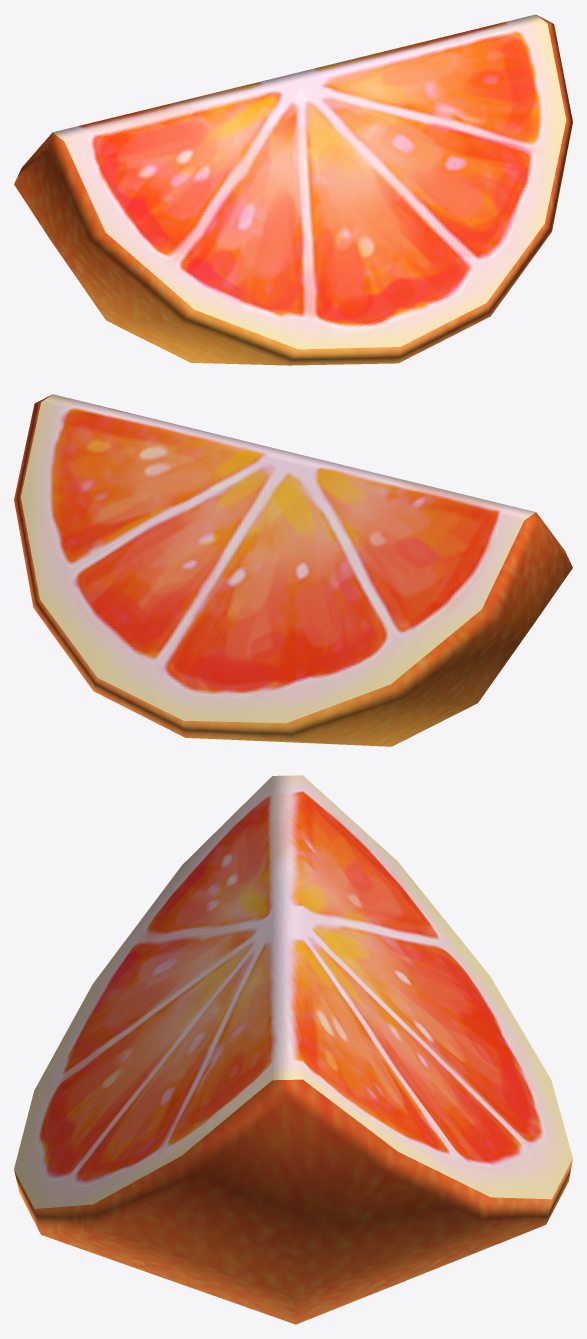
File: Grapefruit_Quarter.fbx
3 views of the same model, one above another, from view 1: azimuth 30°, elevation 25°; view 2: azimuth 150°, elevation 25°; view 3: azimuth 270°, elevation 25° (orthographic). The views are drawn at different scales.
Parts seen in each view (by area): view 1: Grapefruit_Quarter; view 2: Grapefruit_Quarter; view 3: Grapefruit_Quarter.
Boxes of the visible parts, x1,y1,x2,y2 form: Grapefruit_Quarter: (14,14,572,365); Grapefruit_Quarter: (14,394,572,746); Grapefruit_Quarter: (14,775,572,1324).
Bounding box in the file's own units: 35.02 × 18.1 × 26.13.
